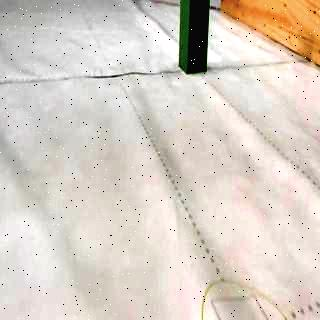greenbox: (178, 0, 211, 74)
